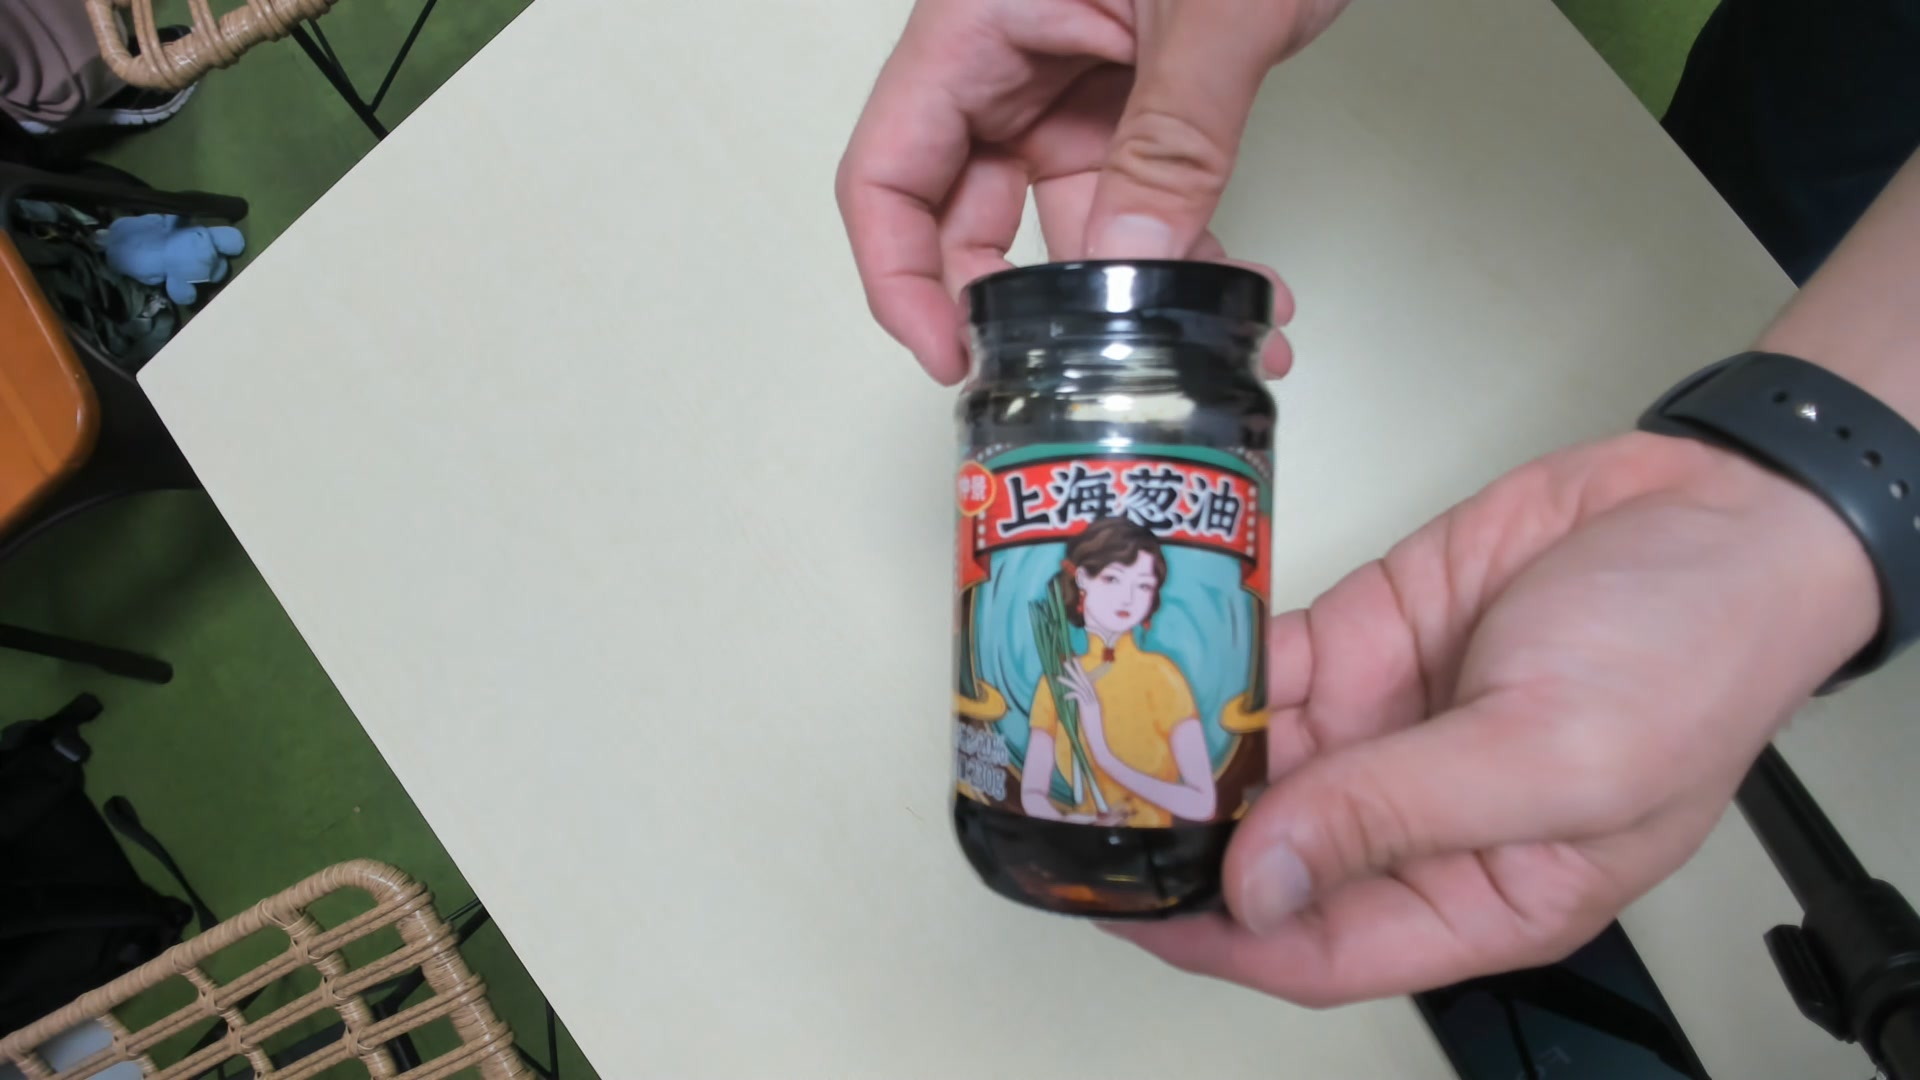OtherSauceDressing_200-299g_NonHalal_NonHealthy: (945, 265, 1284, 924)
